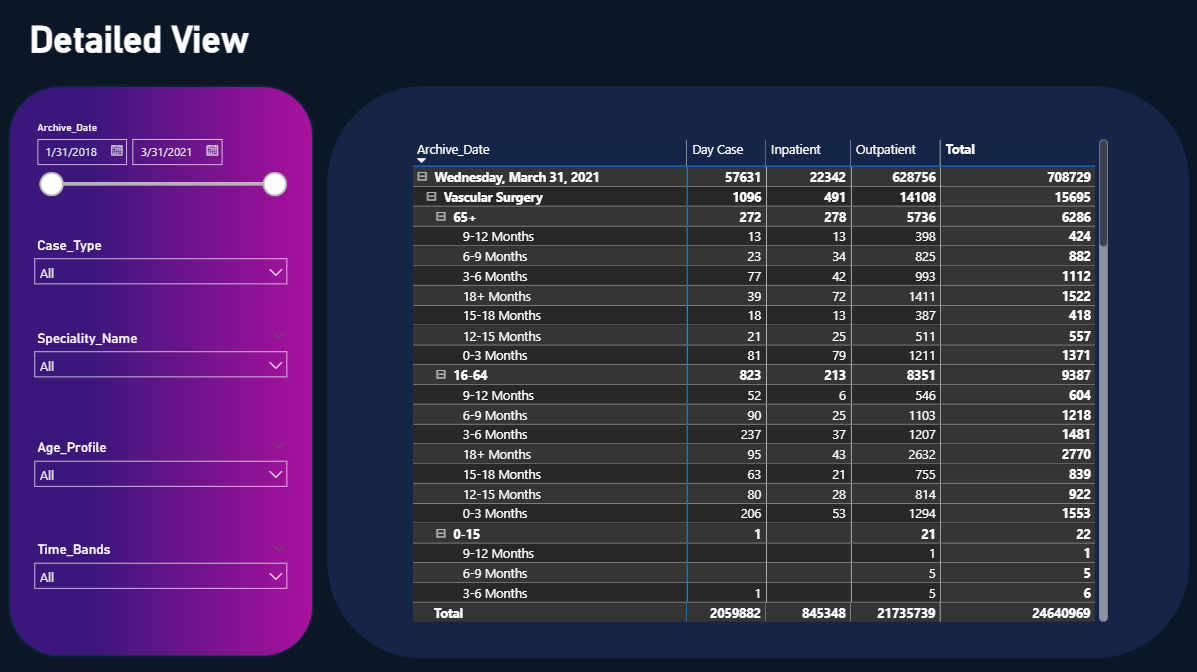

What the dashboard file says about the page in this screenshot:
{"tool":"powerbi","page":{"name":"Detail","canvas":[1280,720],"ordinal":1},"visuals":[{"type":"slicer","fields":{"Values":["All_Data.Archive_Date"]},"box":[31.8,125.7,286.3,111.3],"z":0},{"type":"slicer","fields":{"Values":["All_Data.Case_Type"]},"box":[31.8,248.1,287.9,79.5],"z":1000},{"type":"slicer","fields":{"Values":["All_Data.Speciality_Name"]},"box":[31.8,346.8,287.9,97],"z":2000},{"type":"textbox","box":[32,16,304,64],"z":3000},{"type":"slicer","fields":{"Values":["All_Data.Age_Profile"]},"box":[31.8,462.9,287.9,87.5],"z":4000},{"type":"slicer","fields":{"Values":["All_Data.Time_Bands"]},"box":[31.8,571,287.9,95.4],"z":5000},{"type":"pivotTable","fields":{"Rows":["All_Data.Archive_Date","All_Data.Speciality_Name","All_Data.Age_Profile","All_Data.Time_Bands"],"Columns":["All_Data.Case_Type"],"Values":["Sum(All_Data.Total)"]},"box":[437.4,144.7,747.6,521.7],"z":6000}]}

Visuals, with their boxes in screenshot pixels (x1, y1, x2, y2), scaled from the page's 1280x720 canvas onto the 1197x672 screenshot:
slicer - All_Data.Archive_Date: region(30, 117, 297, 221)
slicer - All_Data.Case_Type: region(30, 232, 299, 306)
slicer - All_Data.Speciality_Name: region(30, 324, 299, 414)
textbox: region(30, 15, 314, 75)
slicer - All_Data.Age_Profile: region(30, 432, 299, 514)
slicer - All_Data.Time_Bands: region(30, 533, 299, 622)
pivotTable - All_Data.Archive_Date x All_Data.Speciality_Name: region(409, 135, 1108, 622)
